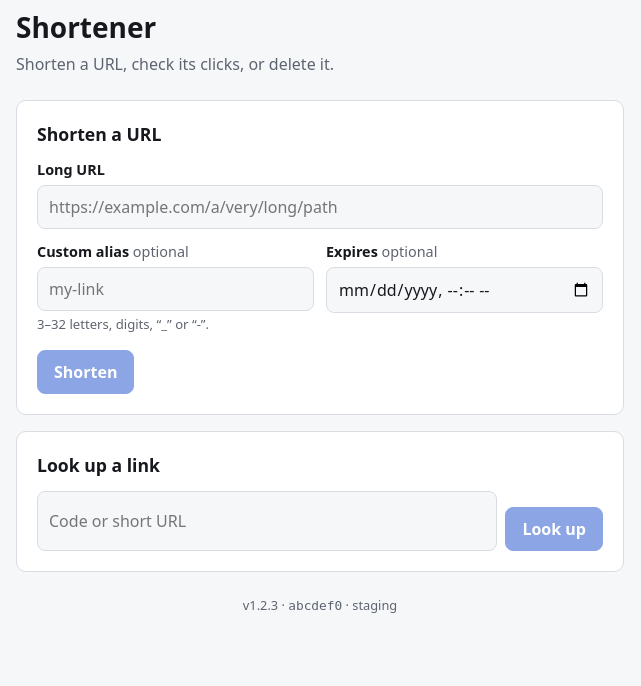
Test case: creating a link › shows business-rule errors
The width and height of the screenshot is (641, 686).
In the field labelled "Long URL": (320, 207) [37,185,603,229], type "https://sho.rt/x"
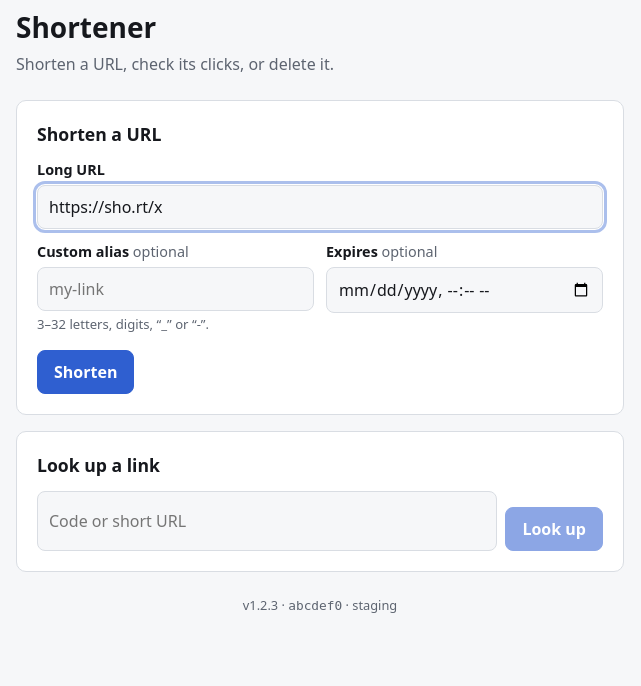
Click the button "Shorten": (86, 372) [37,350,134,394]
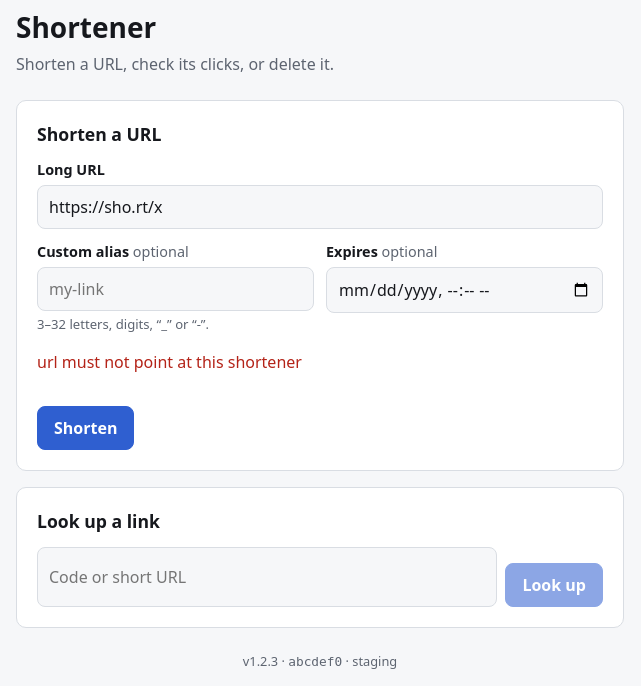
Result: the message reads "url must not point at this shortener" at [37,351,302,373]
